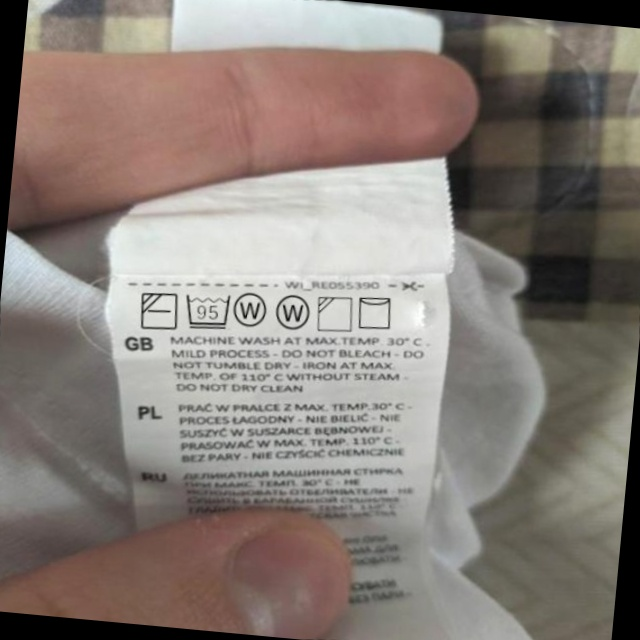95C: (181, 288, 235, 334)
dry_flat_in_shade: (136, 286, 182, 335)
line_dry: (353, 290, 398, 334)
shade_dry: (313, 291, 357, 336)
wet_clean: (231, 286, 273, 331), (272, 290, 314, 335)
